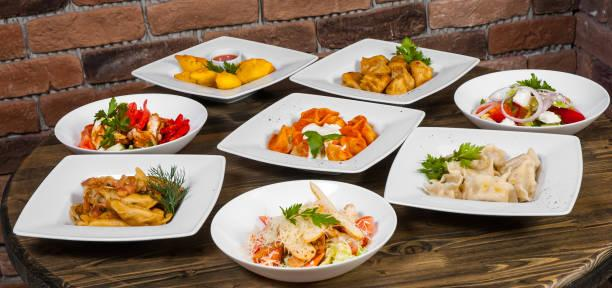Braised Crucian Carp: (210, 179, 396, 283), (389, 127, 586, 217), (216, 91, 421, 175), (31, 153, 220, 243), (290, 37, 477, 106), (132, 34, 312, 103), (453, 69, 612, 129), (55, 96, 205, 153)
